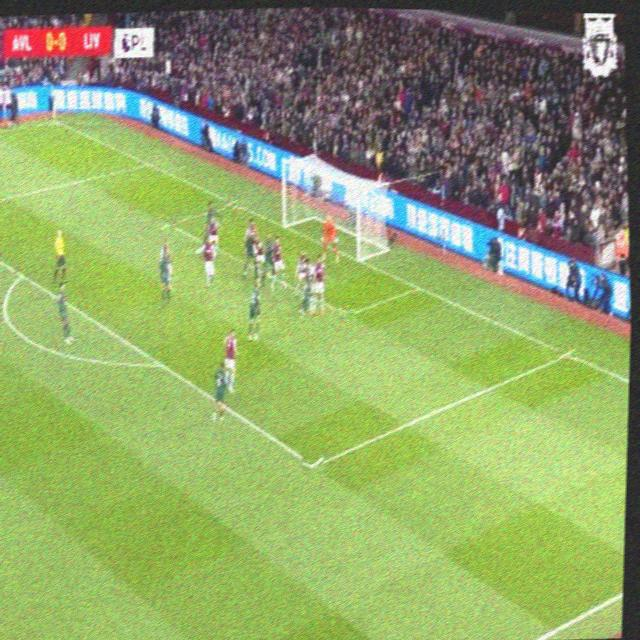bigarea_bottom_inner: (301, 448, 325, 482)
bigarea_bottom_outter: (558, 343, 576, 364)
bigarea_top_outter: (140, 154, 157, 171)
bottom_arc_area_intersection: (151, 351, 170, 376)
corner: (42, 111, 62, 127)
smallarea_bottom_inner: (337, 299, 356, 326)
smallarea_bottom_outter: (407, 275, 427, 297)
smallarea_top_inner: (159, 213, 177, 231)
smallarea_top_outter: (224, 193, 242, 212)
top_arc_area_intersection: (11, 265, 29, 284)
